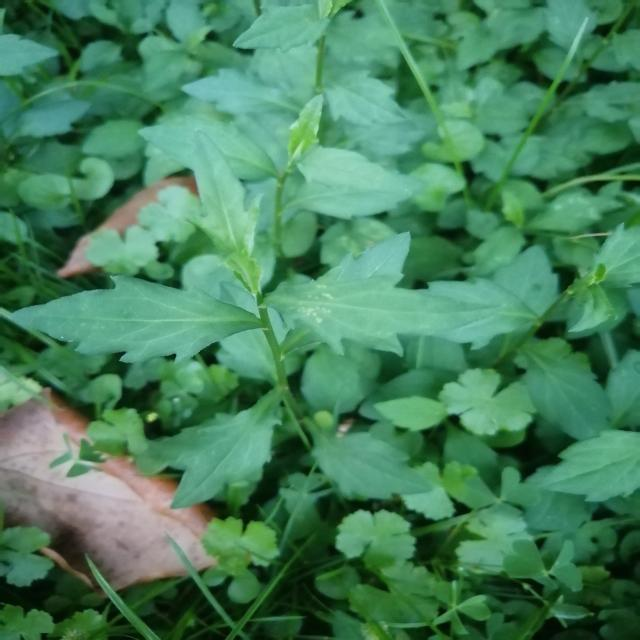Indian aster: (86, 134, 482, 504)
